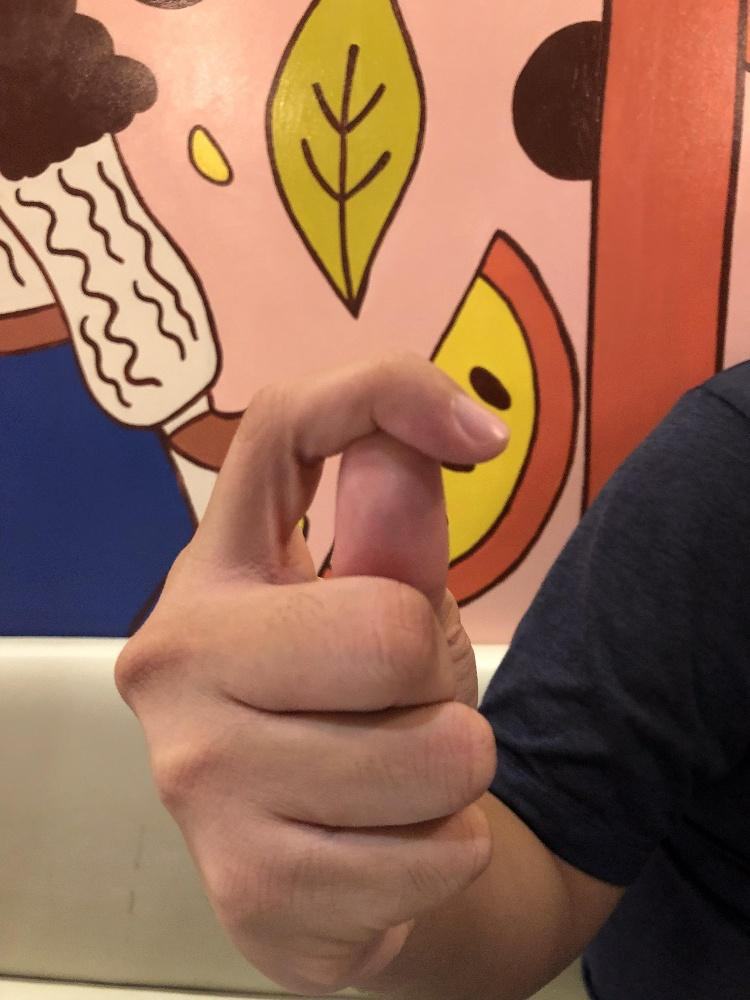t: (108, 348, 512, 995)
